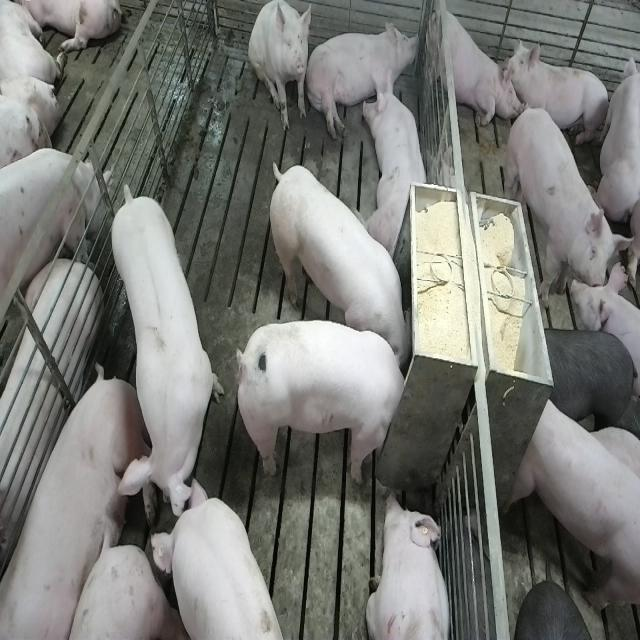Feeding: (263, 160, 412, 365), (241, 318, 416, 485)
Lateral_lying: (4, 368, 161, 640), (305, 20, 418, 144)
Sitting: (425, 0, 516, 132), (248, 2, 312, 134)
Standing: (106, 187, 219, 530), (508, 394, 639, 615), (508, 102, 626, 316), (0, 143, 105, 349), (146, 482, 282, 640), (542, 322, 638, 442)
Sternal_lying: (366, 489, 453, 640), (368, 68, 432, 257), (506, 38, 609, 148)
